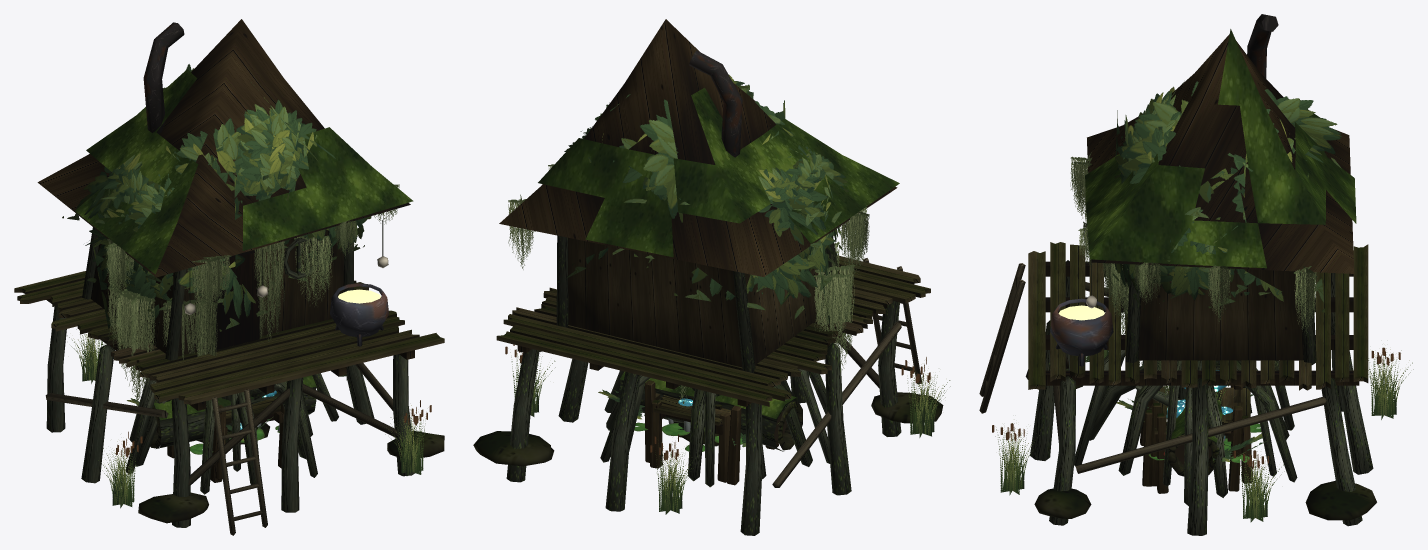
File: kit_mirewell.glb
3 views of the same model, side by side, from view 1: azimuth 30°, elevation 25°; view 2: azimuth 150°, elevation 25°; view 3: azimuth 270°, elevation 25° (orthographic). The views are drawn at different scales.
Visible parts, largest first — view 1: mirewell_hag_hut_mesh, mirewell_bog_tree_a_mesh, mirewell_bog_tree_b_mesh, mirewell_bog_tree_a_lod1_mesh, mirewell_mossy_log_mesh, mirewell_bog_tree_b_lod1_mesh, mirewell_boardwalk_mesh, mirewell_bog_tree_c_mesh; view 2: mirewell_hag_hut_mesh, mirewell_bog_tree_a_mesh, mirewell_bog_tree_b_mesh, mirewell_bog_tree_a_lod1_mesh, mirewell_bog_tree_b_lod1_mesh, mirewell_mossy_log_mesh, mirewell_boardwalk_mesh, mirewell_boardwalk_corner_mesh; view 3: mirewell_hag_hut_mesh, mirewell_bog_tree_a_mesh, mirewell_bog_tree_a_lod1_mesh, mirewell_bog_tree_b_mesh, mirewell_boardwalk_corner_mesh, mirewell_mossy_log_mesh, mirewell_boardwalk_mesh, mirewell_bog_tree_b_lod1_mesh, mirewell_bog_tree_c_mesh.
Part boxes in pixels (<box>): mirewell_hag_hut_mesh: <box>14,19,444,535</box>; mirewell_bog_tree_a_mesh: <box>93,99,381,494</box>; mirewell_bog_tree_b_mesh: <box>87,235,306,484</box>; mirewell_bog_tree_a_lod1_mesh: <box>62,64,357,494</box>; mirewell_mossy_log_mesh: <box>127,375,316,448</box>; mirewell_bog_tree_b_lod1_mesh: <box>85,235,316,483</box>; mirewell_boardwalk_mesh: <box>167,402,284,482</box>; mirewell_bog_tree_c_mesh: <box>130,181,312,471</box>; mirewell_hag_hut_mesh: <box>473,19,950,535</box>; mirewell_bog_tree_a_mesh: <box>564,80,848,487</box>; mirewell_bog_tree_b_mesh: <box>606,231,854,481</box>; mirewell_bog_tree_a_lod1_mesh: <box>582,74,841,462</box>; mirewell_bog_tree_b_lod1_mesh: <box>557,230,850,465</box>; mirewell_mossy_log_mesh: <box>598,371,802,451</box>; mirewell_boardwalk_mesh: <box>650,397,778,485</box>; mirewell_boardwalk_corner_mesh: <box>645,380,731,482</box>; mirewell_hag_hut_mesh: <box>979,14,1413,535</box>; mirewell_bog_tree_a_mesh: <box>1075,82,1341,506</box>; mirewell_bog_tree_a_lod1_mesh: <box>1074,81,1341,504</box>; mirewell_bog_tree_b_mesh: <box>1089,263,1289,497</box>; mirewell_boardwalk_corner_mesh: <box>1140,385,1243,493</box>; mirewell_mossy_log_mesh: <box>1116,385,1266,476</box>; mirewell_boardwalk_mesh: <box>1142,385,1252,486</box>; mirewell_bog_tree_b_lod1_mesh: <box>1091,271,1324,475</box>; mirewell_bog_tree_c_mesh: <box>1137,360,1276,486</box>.
Size of the model in its own units: 4.33 by 5.09 by 4.38.
13 materials, 11 textured.
